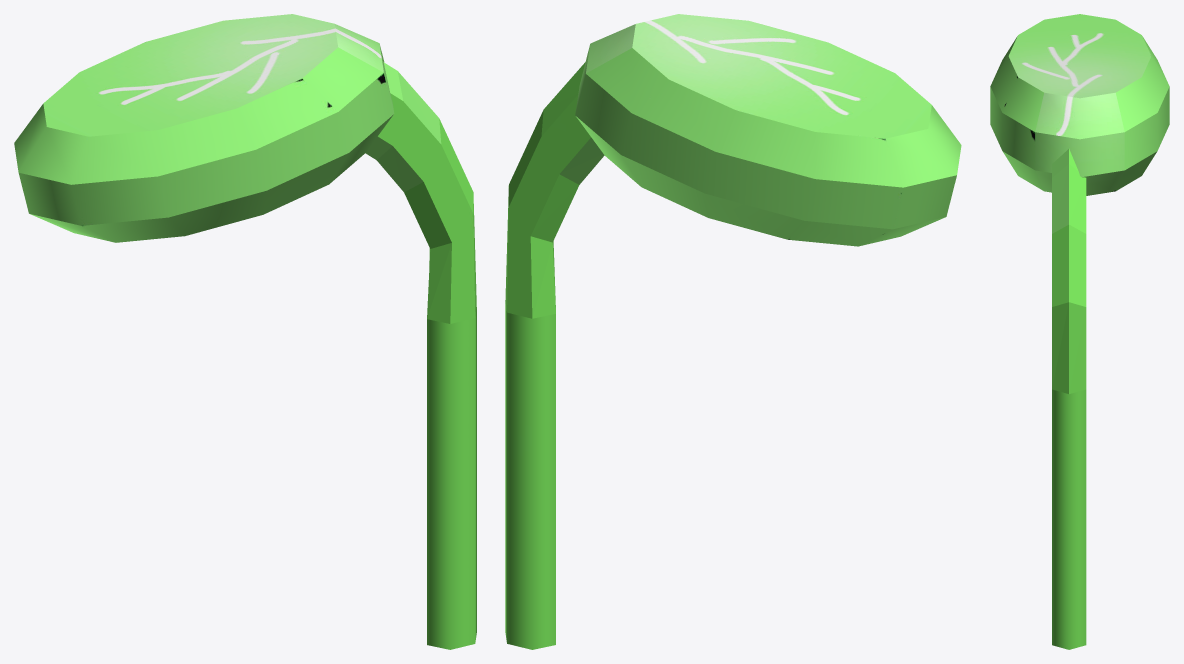
Rendered from 小黃瓜發芽.FBX.
3 renders of one model, left to right at view 1: azimuth 30°, elevation 25°; view 2: azimuth 150°, elevation 25°; view 3: azimuth 270°, elevation 25°, orthographic. The views are drawn at different scales.
Parts seen in each view (by area): view 1: ChamferCyl001; view 2: ChamferCyl001; view 3: ChamferCyl001.
Part boxes in pixels (box(x1,y1,x2,y2)): ChamferCyl001: box(14, 14, 476, 649); ChamferCyl001: box(505, 14, 961, 649); ChamferCyl001: box(990, 14, 1169, 649).
Size of the model in its own units: 19.85 by 26.77 by 8.7.
Materials: 1 (1 with a texture image).
